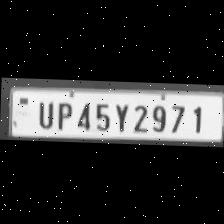1: (186, 102, 208, 134)
2: (128, 100, 148, 132)
4: (72, 98, 92, 130)
5: (90, 99, 112, 130)
7: (166, 101, 186, 133)
9: (148, 100, 168, 132)
P: (52, 98, 72, 130)
U: (32, 97, 56, 128)
Y: (110, 100, 130, 132)
